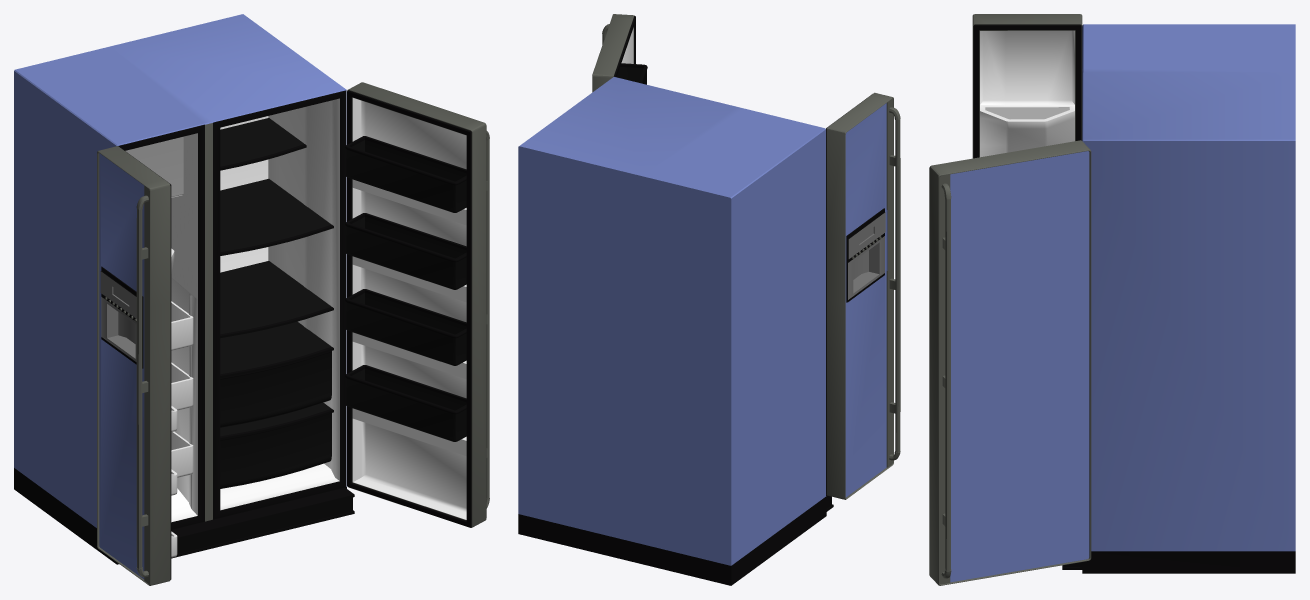
Rendered from Fridge2.fbx.
The picture shows the model from 3 angles, left to right: view 1: azimuth 30°, elevation 25°; view 2: azimuth 150°, elevation 25°; view 3: azimuth 270°, elevation 25°; orthographic projection. The views are drawn at different scales.
Parts seen in each view (by area): view 1: FridgeBody2, FreezerDoor2, FridgeBodyInterior2, FridgeDoorInterior2, FridgeDoor2, FridgeDoorShelf2 (3), FridgeShelf2A, FridgeDoorShelf2 (4), FridgeShelf2A (4), FridgeDoorShelf2 (2), FridgeDoorShelf2, FridgeShelf2B (2) (+7 smaller); view 2: FridgeBody2, FreezerDoor2, FridgeDoor2, FridgeDoorShelf2; view 3: FridgeBody2, FridgeDoor2, FreezerDoorInterior2, FreezerDoor2.
Boxes of the visible parts, left/top/right/bottom form: FridgeBody2: left=14, top=14, right=354, bottom=564; FreezerDoor2: left=97, top=146, right=171, bottom=585; FridgeBodyInterior2: left=125, top=98, right=339, bottom=522; FridgeDoorInterior2: left=352, top=98, right=466, bottom=519; FridgeDoor2: left=347, top=82, right=489, bottom=527; FridgeDoorShelf2 (3): left=345, top=365, right=466, bottom=441; FridgeShelf2A: left=220, top=178, right=333, bottom=255; FridgeDoorShelf2 (4): left=345, top=289, right=466, bottom=365; FridgeShelf2A (4): left=220, top=261, right=333, bottom=337; FridgeDoorShelf2 (2): left=345, top=213, right=466, bottom=289; FridgeDoorShelf2: left=345, top=136, right=466, bottom=212; FridgeShelf2B (2): left=220, top=351, right=331, bottom=427; FridgeBody2: left=518, top=77, right=833, bottom=585; FreezerDoor2: left=826, top=92, right=900, bottom=499; FridgeDoor2: left=592, top=14, right=635, bottom=92; FridgeDoorShelf2: left=617, top=63, right=647, bottom=84; FridgeBody2: left=1062, top=24, right=1295, bottom=573; FridgeDoor2: left=929, top=140, right=1091, bottom=585; FreezerDoorInterior2: left=980, top=30, right=1074, bottom=157; FreezerDoor2: left=972, top=14, right=1082, bottom=158.
Bounding box in the file's own units: 1164 × 1385 × 1060.
